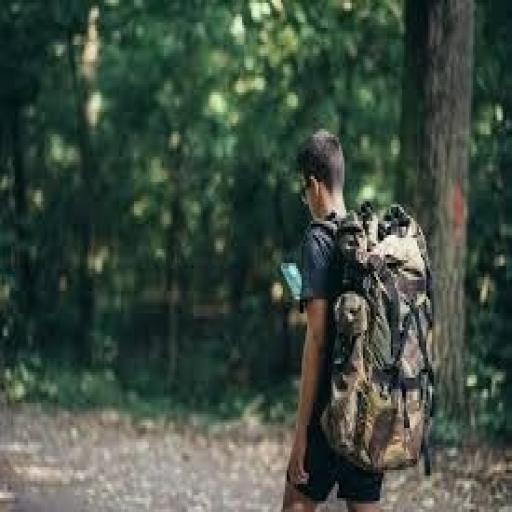texting: (276, 123, 438, 509)
